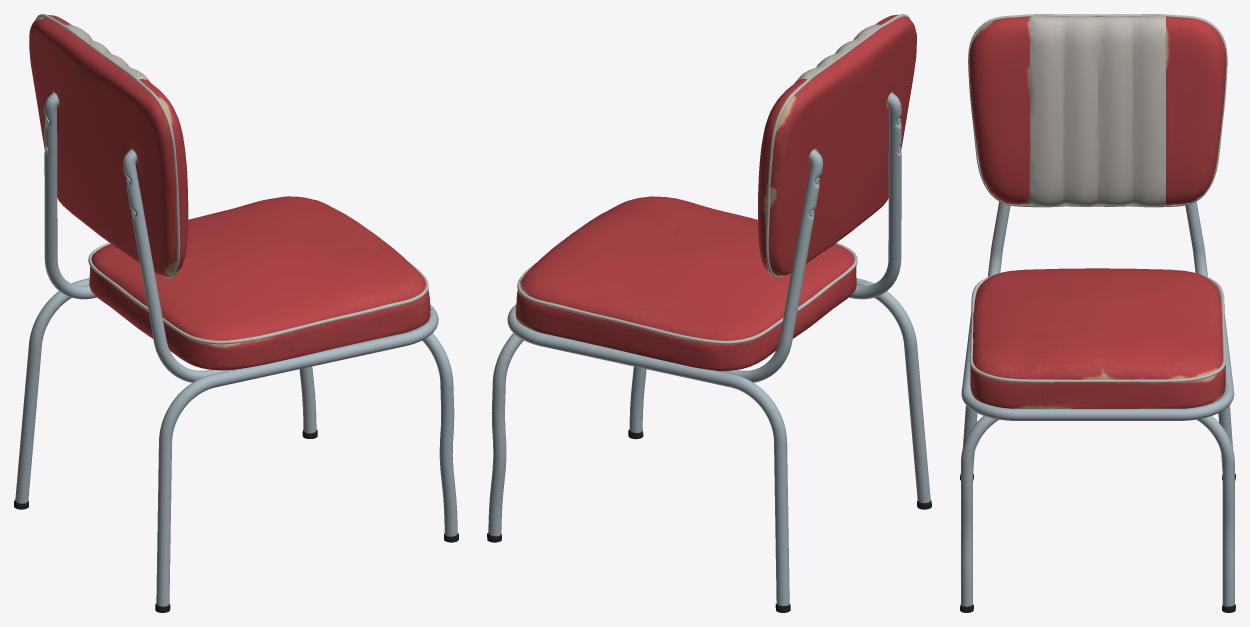
Rendered from SM_Vintage_Chair.fbx.
3 views of the same model, side by side, from view 1: azimuth 30°, elevation 25°; view 2: azimuth 150°, elevation 25°; view 3: azimuth 270°, elevation 25° (orthographic). The views are drawn at different scales.
Visible parts, largest first — view 1: SM_Vintage_Chair_LOD0; view 2: SM_Vintage_Chair_LOD0; view 3: SM_Vintage_Chair_LOD0.
Boxes of the visible parts, x1,y1,x2,y2 form: SM_Vintage_Chair_LOD0: (14,14,458,612); SM_Vintage_Chair_LOD0: (487,14,931,612); SM_Vintage_Chair_LOD0: (960,14,1235,612).
Bounding box in the file's own units: 81.75 × 69.55 × 130.
1 material, 1 textured.
